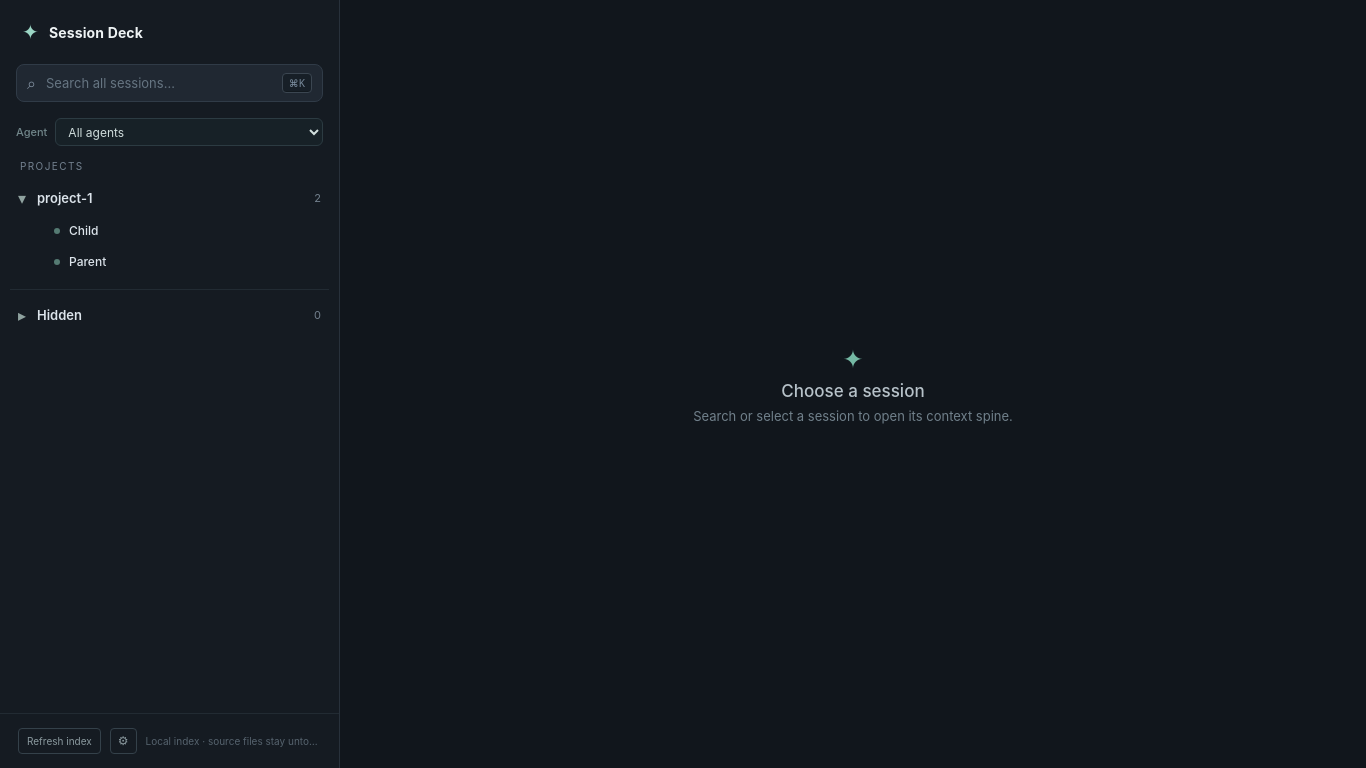
Scenario: App continuation boundary › shows scan errors after exit instead of reporting a missing child
Click the button with class "session-item" showing "Parent": (88, 262) [24,246,329,277]
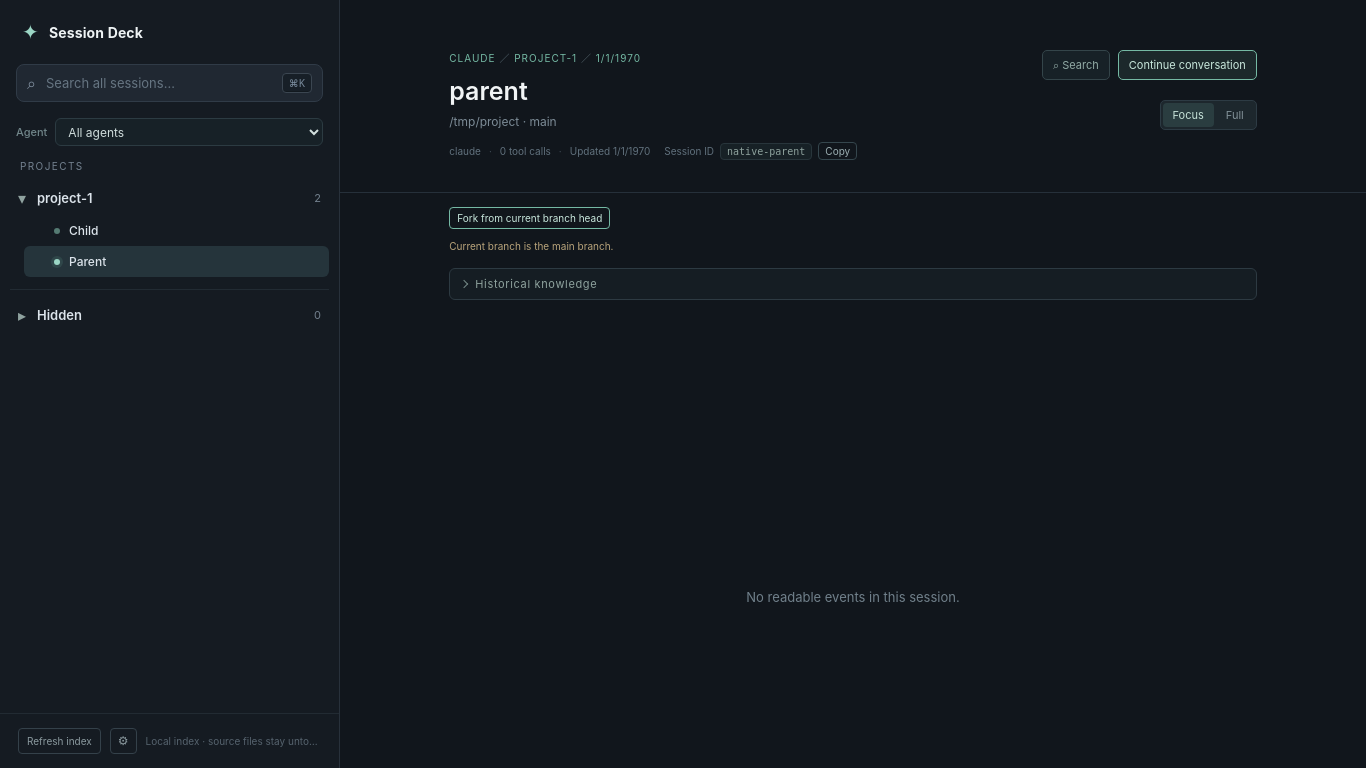
Click the button with class "fork-button": (530, 218) [449,207,610,229]
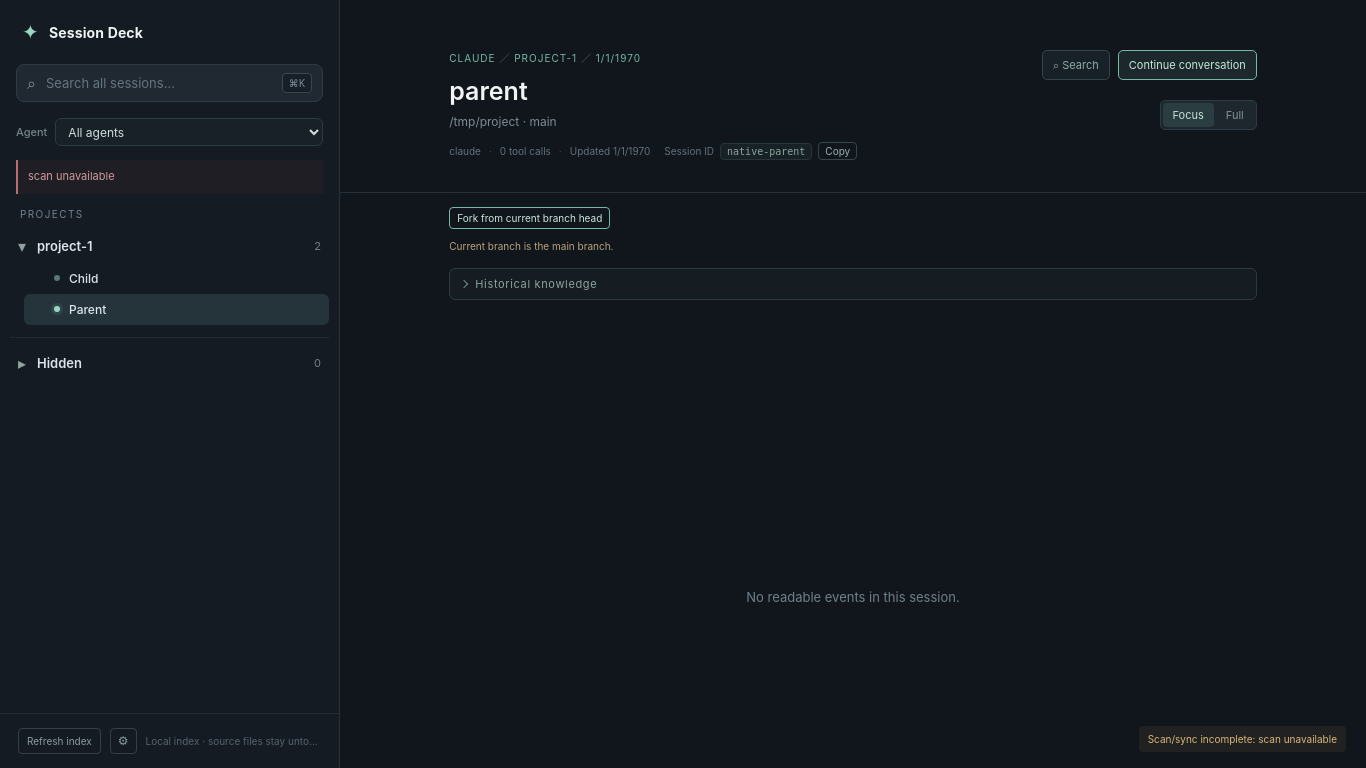
Expected: the text "Scan/sync incomplete: scan unavailable" is shown, [1139,726,1346,752]
